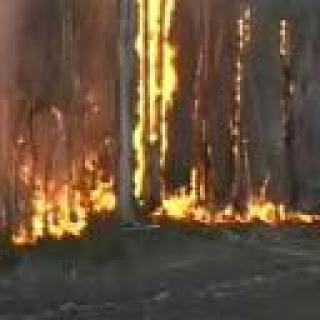fire: (140, 0, 201, 229), (0, 153, 119, 239), (236, 175, 320, 231)
